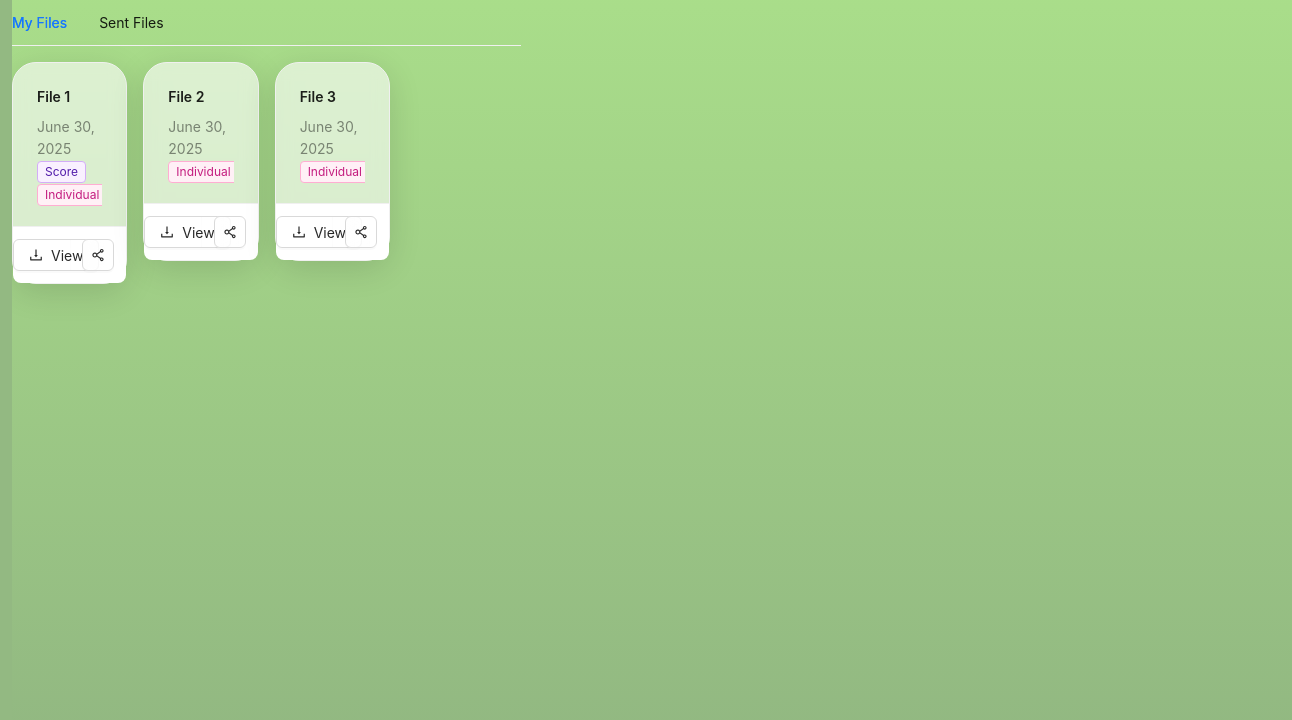
it: renders cards count and empty state
This screenshot has width=1292, height=720.
Expected: the number of buttons named "view-" is 3, x1=13 y1=239 x2=99 y2=271; x1=144 y1=216 x2=231 y2=248; x1=276 y1=216 x2=362 y2=248
Click the tab "Sent Files": (131, 23) x1=99 y1=12 x2=164 y2=34
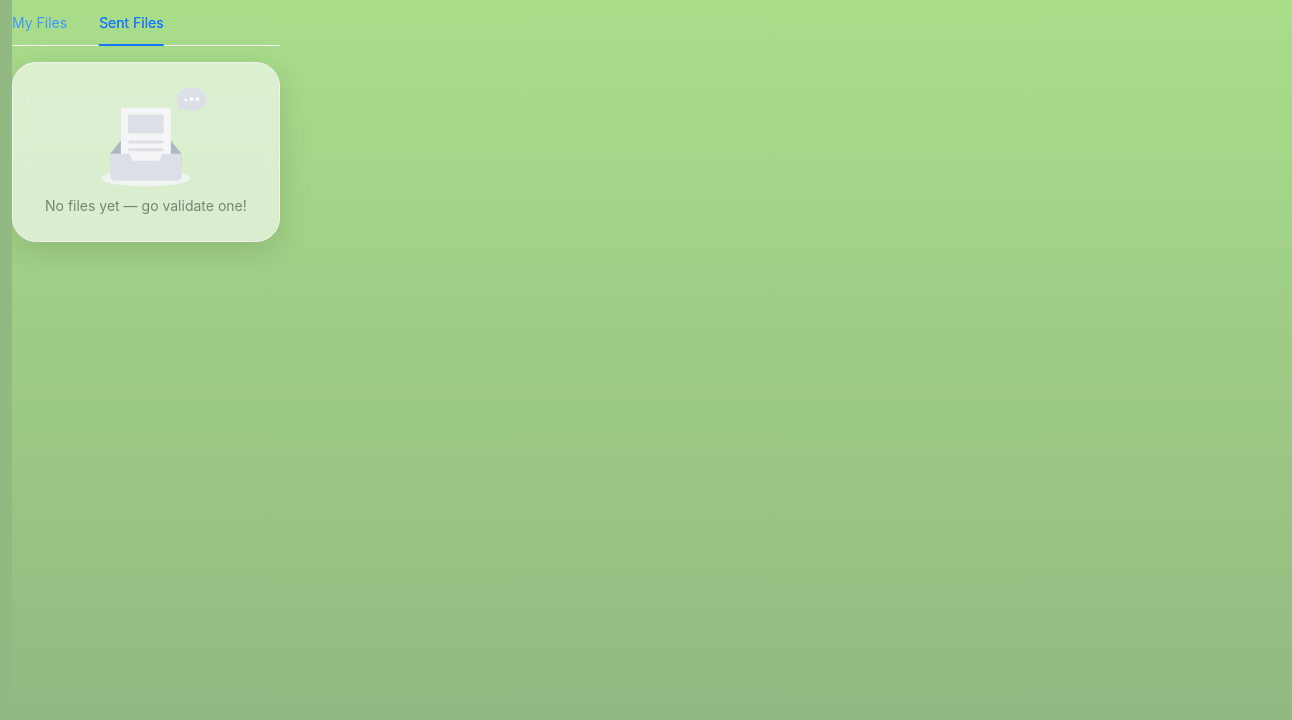
Expected: the text "No files yet — go validate one!" is shown, x1=45 y1=197 x2=247 y2=214
